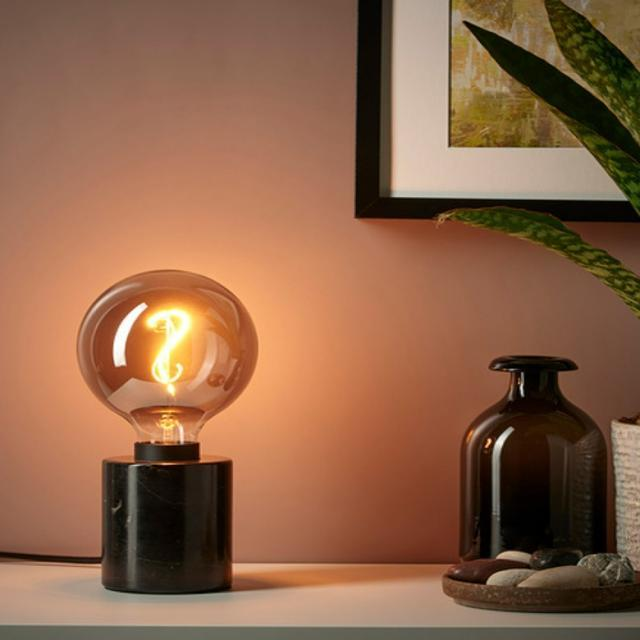light_bulb: (52, 240, 268, 608)
